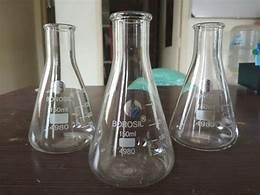Titrarion: (92, 5, 174, 186), (16, 7, 92, 155), (177, 20, 242, 156)
